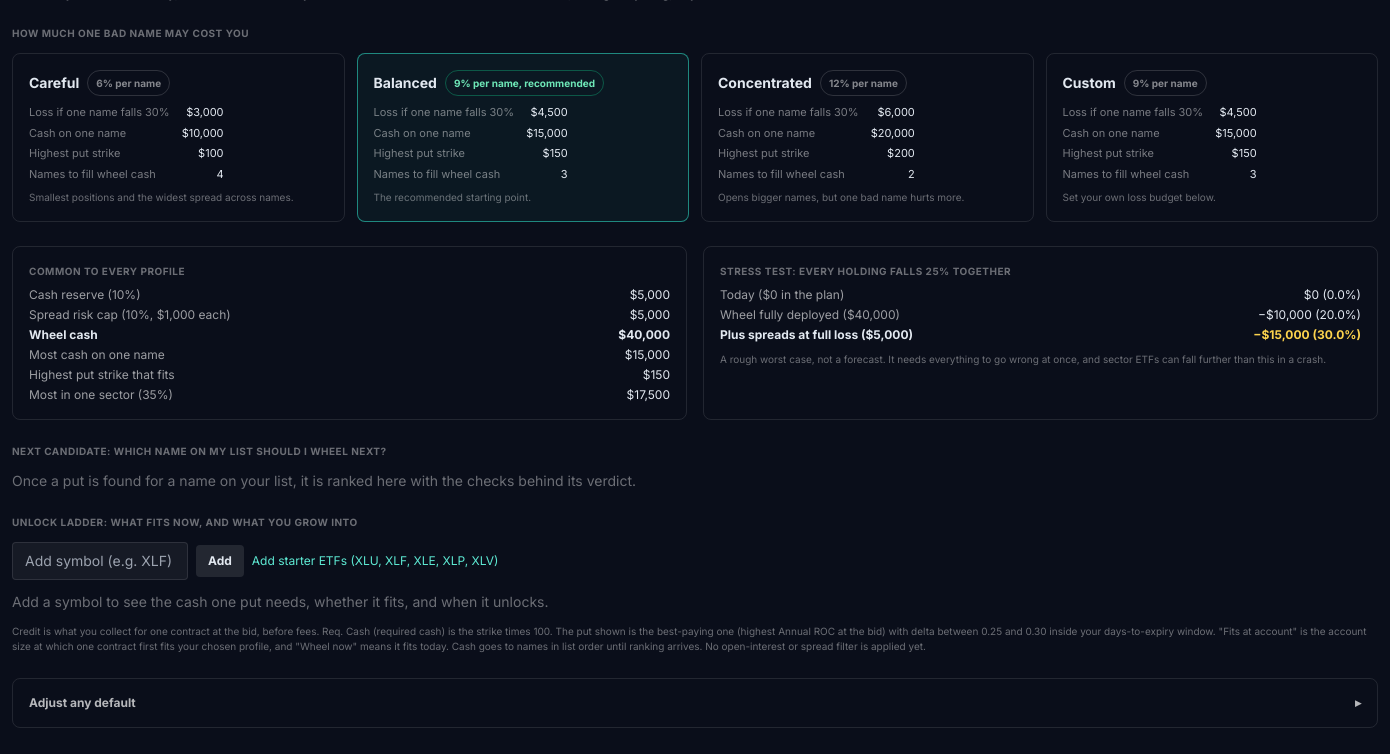
WheelPlanTab › changing a parameter shows it as changed with a reset, recalculates, and saves only the override
The width and height of the screenshot is (1390, 754).
Expected: the text "Add a symbol" is shown, [12,593,548,610]
Click the radio button labelled "Concentrated" at (765,82), box [701,53,1034,222]
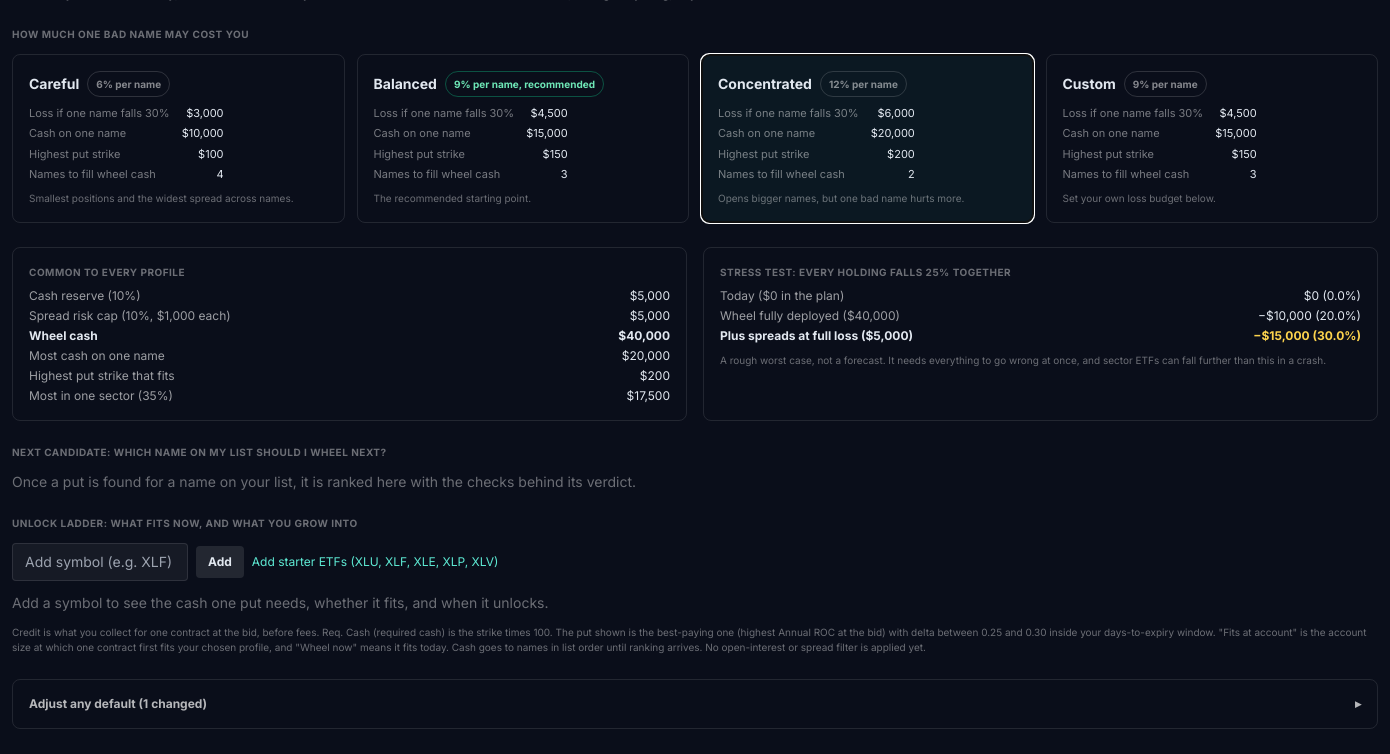
Expected: the text "$20,000" in the row of "Most cash on one name" is shown, [622,348,670,362]
Click the button "Adjust any default (1 changed) ▸" at (82,703), box [29,696,1361,712]
(page scrolled)
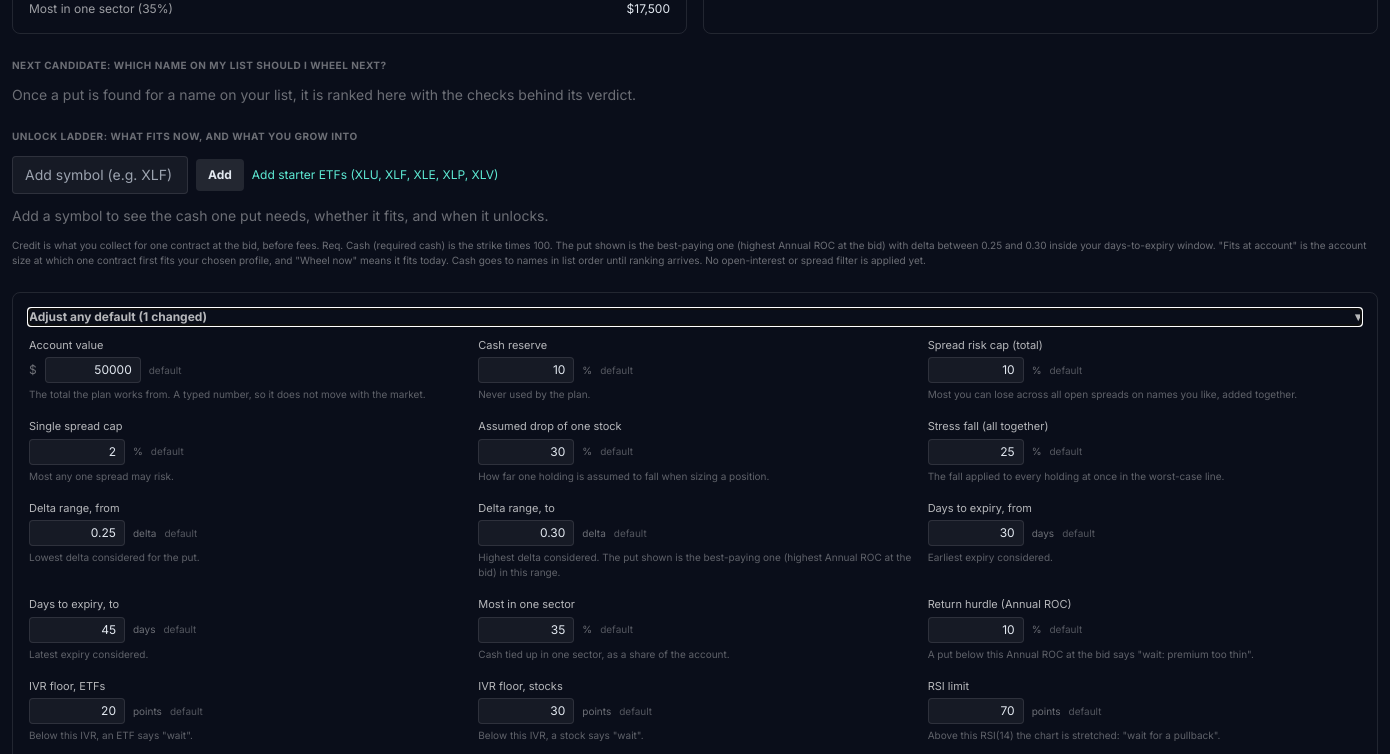
Replace the text in the field labelled "Cash reserve" with "5" at (526,370), box [478,357,574,383]
Then press Enter
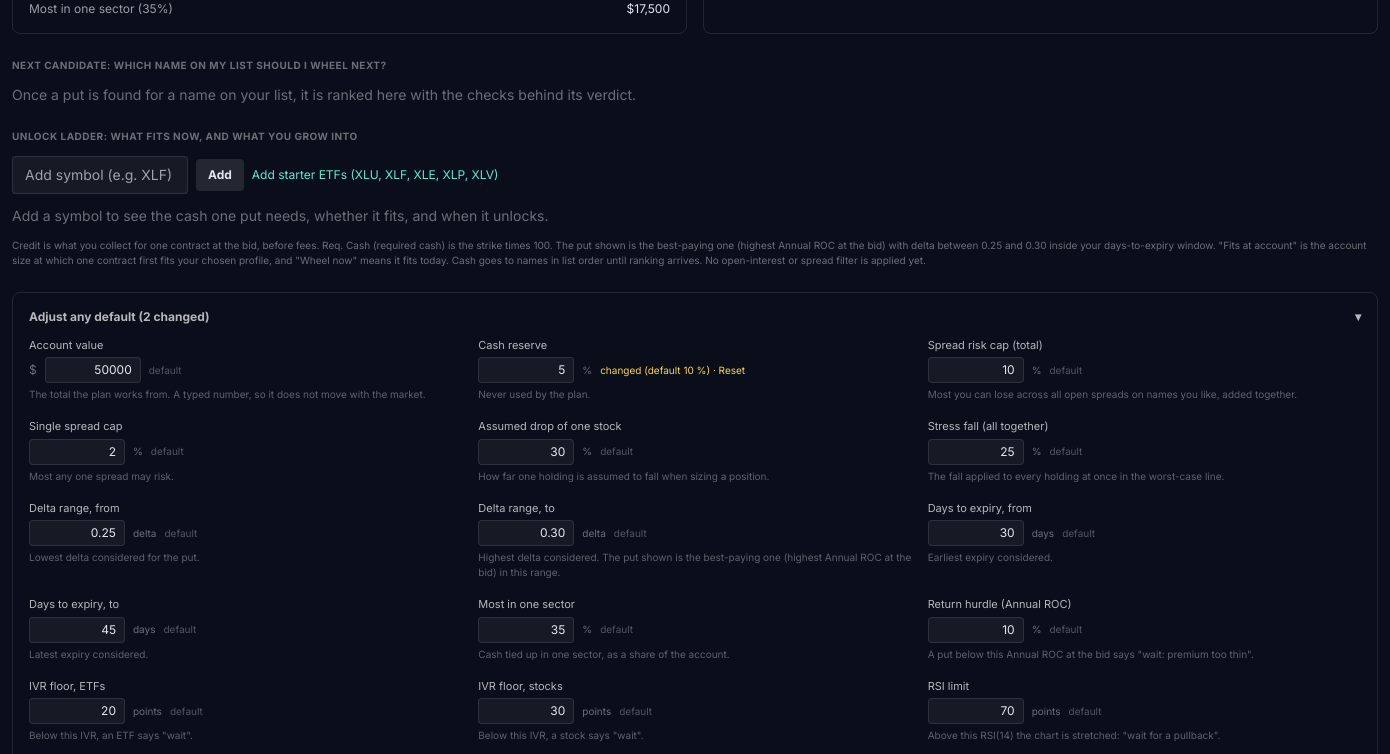
Expected: the text "A reserve under 5%" is not shown
Expected: the button "changed (default 10 %) · Reset" is shown, [600,362,745,378]
Replace the text in the field labelled "Cash reserve" with "3" at (526,370), box [478,357,574,383]
Then press Enter
(page scrolled)
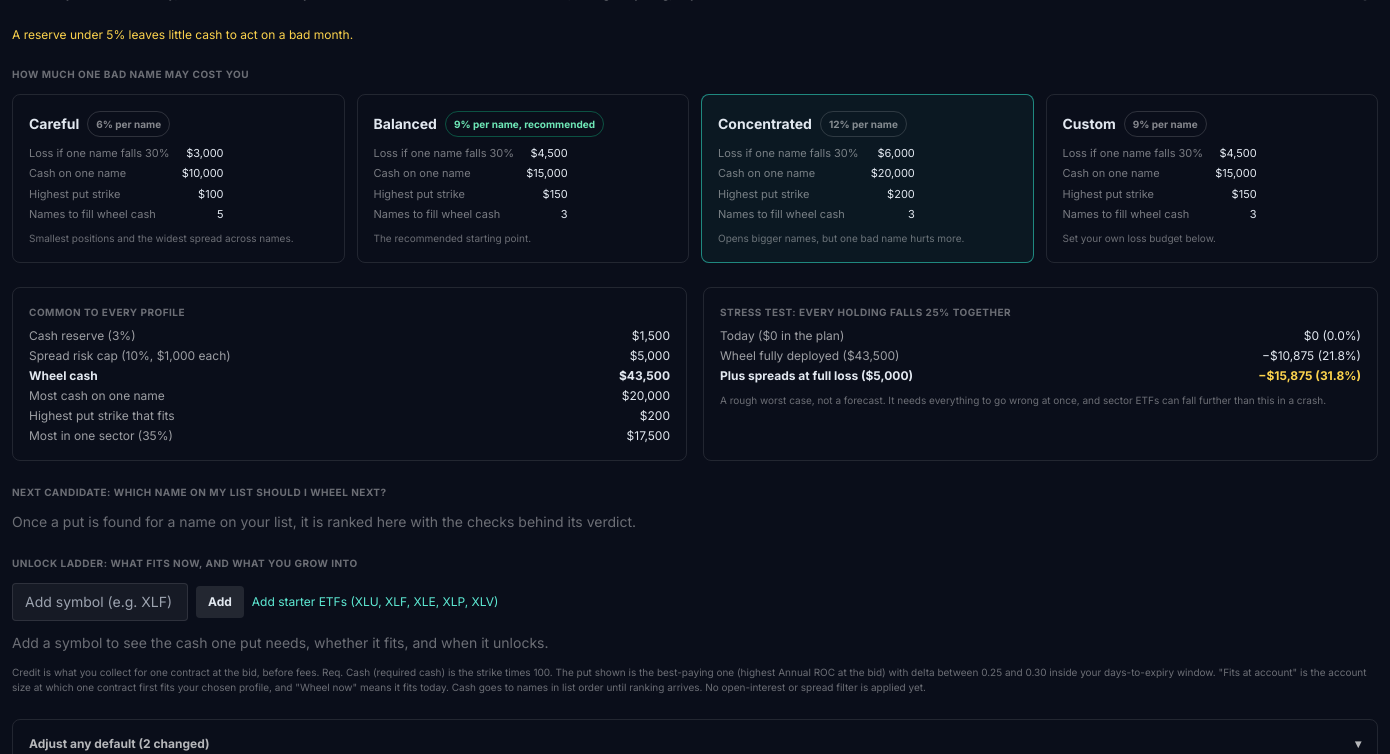
Expected: the text "A reserve under 5% leaves little cash to act on a bad month." is shown, [12,26,353,42]
